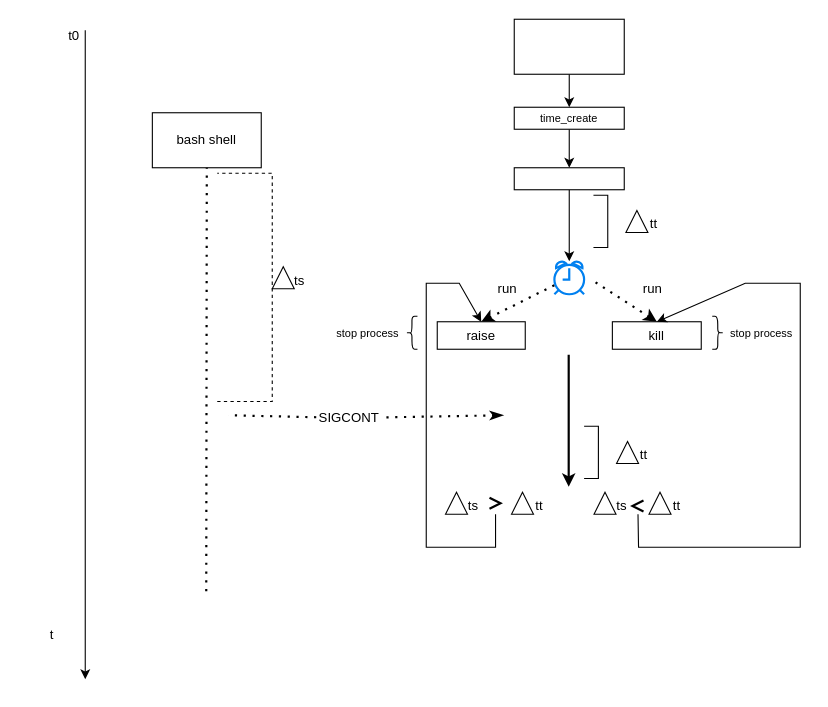
Image size: 828x707. Some labels were removed from this diagram. The shapes that lost their labels are listed below. From the top down, each one's box as (x1, y1, x2, y2) in pixels, then its label:
(513, 18, 624, 74): program
(513, 167, 624, 190): timer_settime
